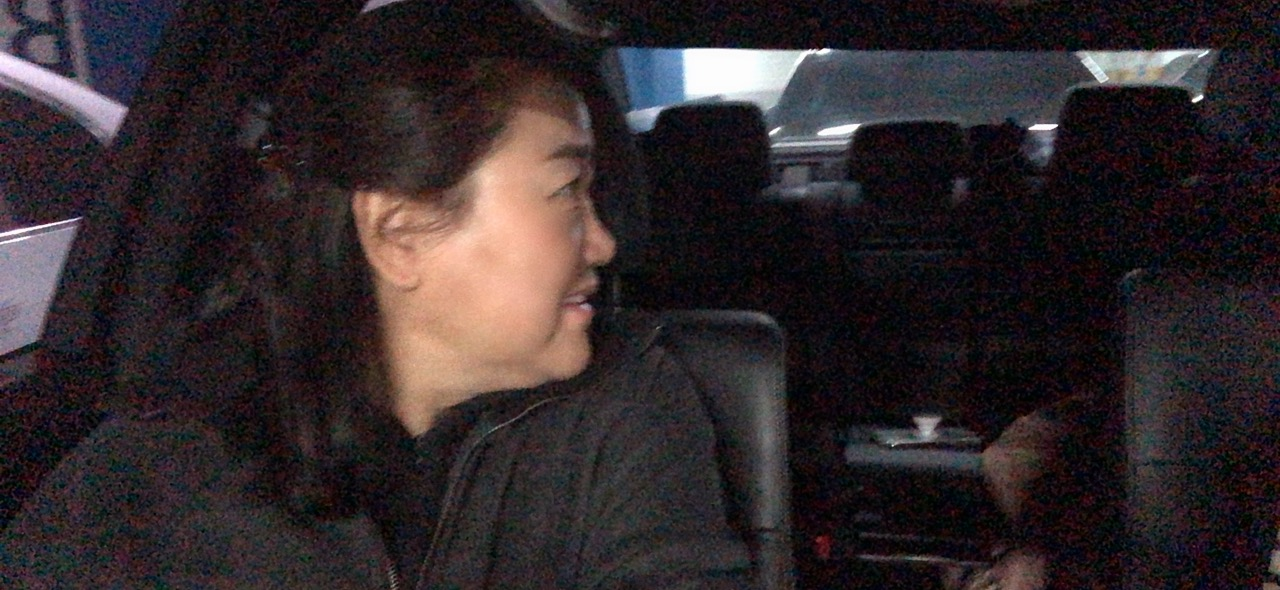right: (197, 44, 659, 458)
